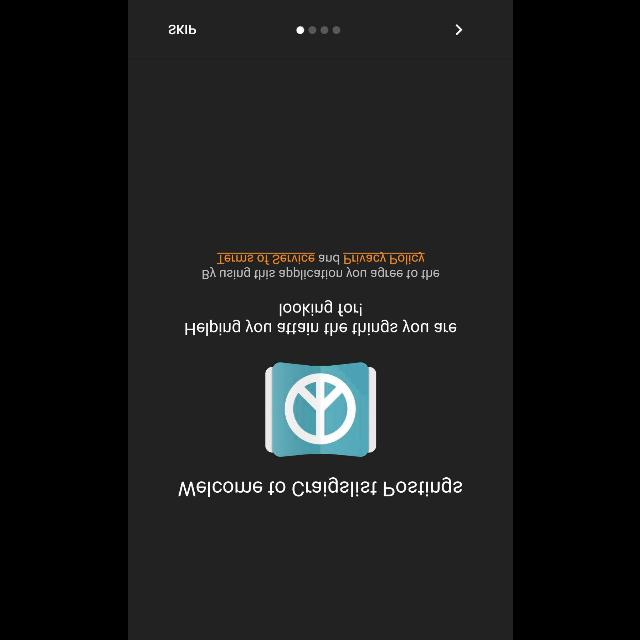icon: (454, 24, 462, 36)
image: (264, 362, 376, 456)
pageindicator: (296, 26, 340, 34)
text: (184, 300, 456, 336), (202, 252, 438, 280), (177, 477, 461, 497), (168, 24, 196, 34)
